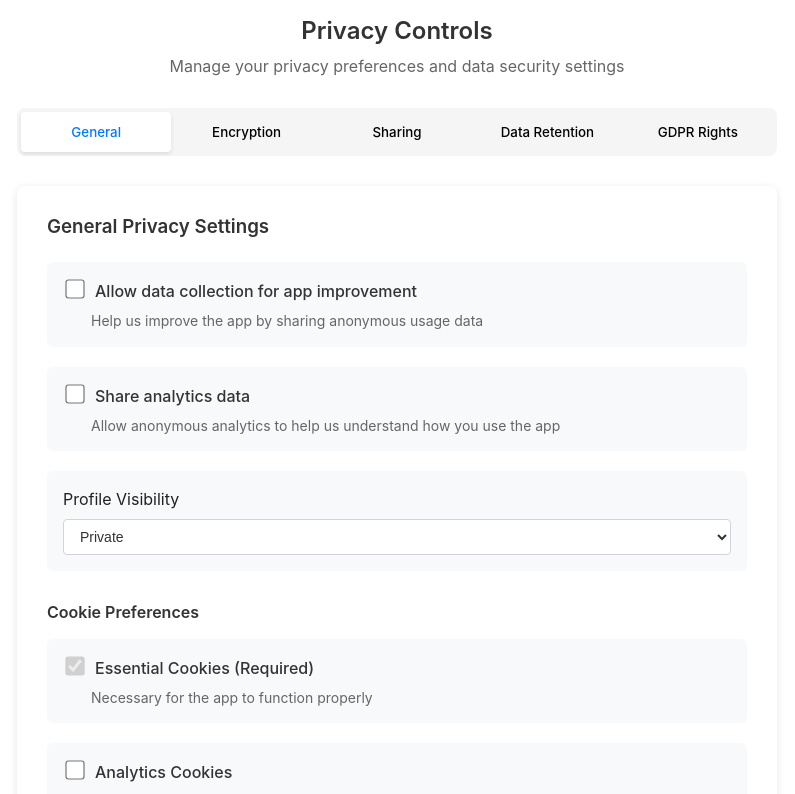
Test case: PrivacyControlsComponent › GDPR Rights Tab › should show GDPR compliance controls
The image size is (795, 794).
Click the button "GDPR Rights": (698, 132) [623,112,773,152]
(page scrolled)
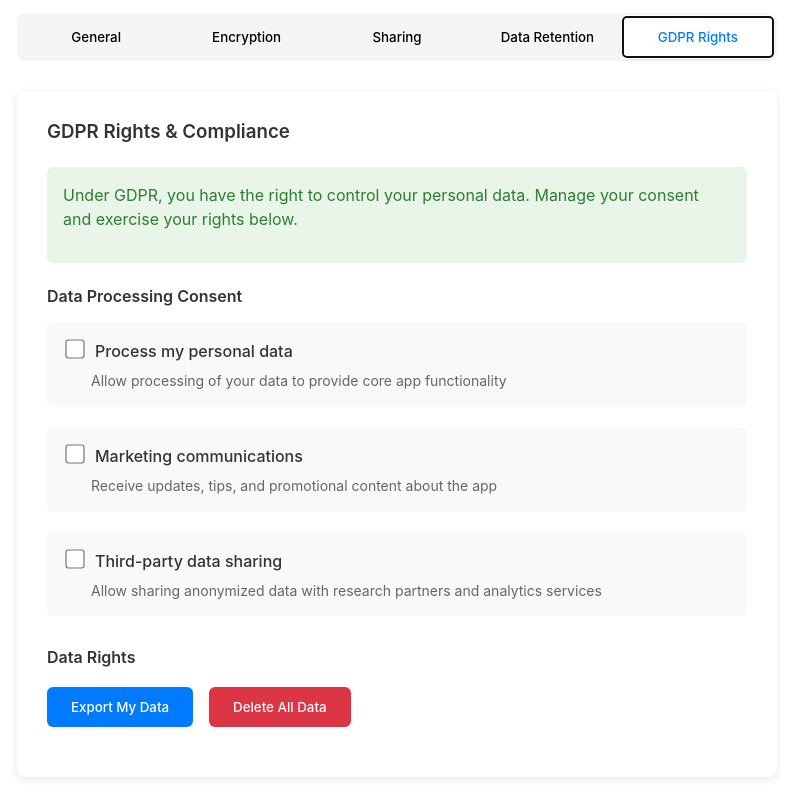
Now the heading "GDPR Rights & Compliance" is shown, box [47,120,290,143]
Now the heading "Data Processing Consent" is shown, box [47,286,242,306]
Now the text "Process my personal data" is shown, box [95,341,293,361]
